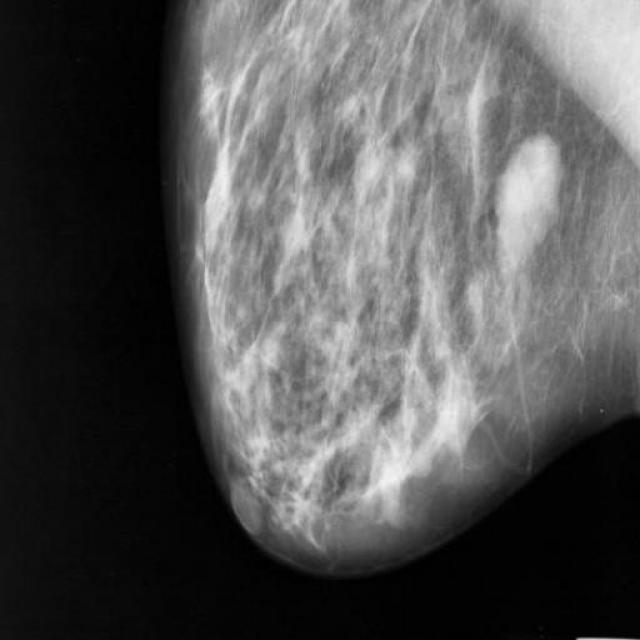cancer: (467, 84, 575, 302)
